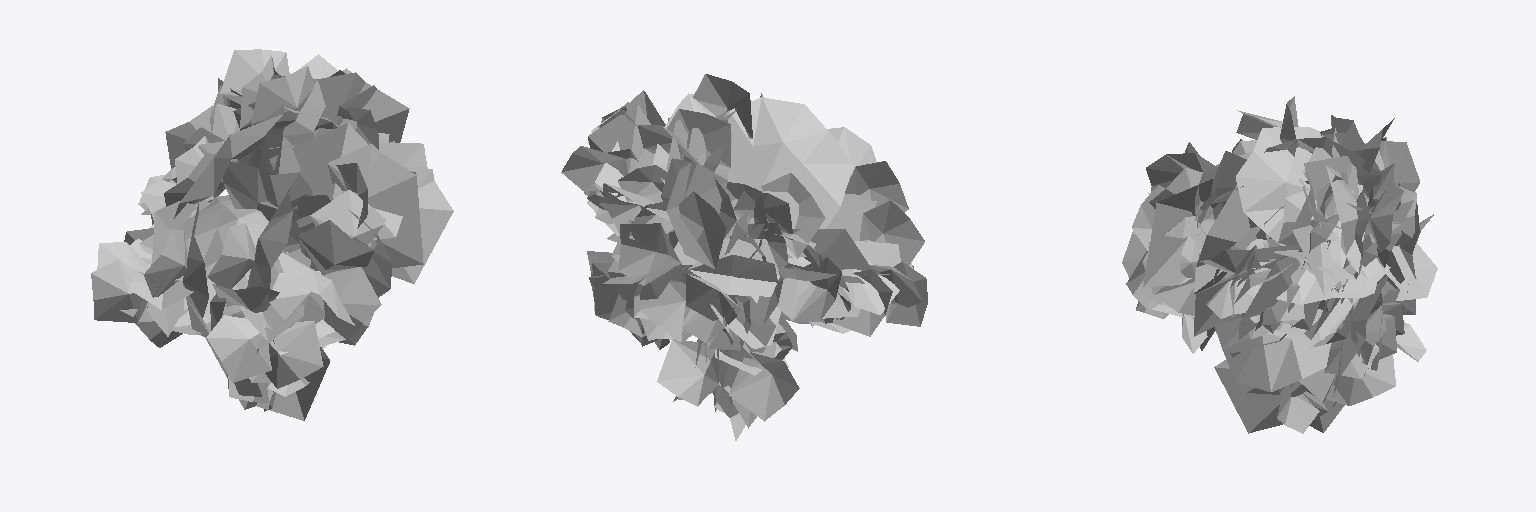
Rendered from tree_mango_leaves.obj.
3 renders of one model, left to right at view 1: azimuth 30°, elevation 25°; view 2: azimuth 150°, elevation 25°; view 3: azimuth 270°, elevation 25°, orthographic.
Visible parts, largest first — view 1: tree_mango_var01.005; view 2: tree_mango_var01.005; view 3: tree_mango_var01.005.
Boxes of the visible parts, box(x1,y1,x2,y2) form: tree_mango_var01.005: box(91, 49, 453, 420); tree_mango_var01.005: box(561, 74, 927, 440); tree_mango_var01.005: box(1122, 96, 1437, 433).
Bounding box in the file's own units: 2.06 × 2.1 × 1.74.